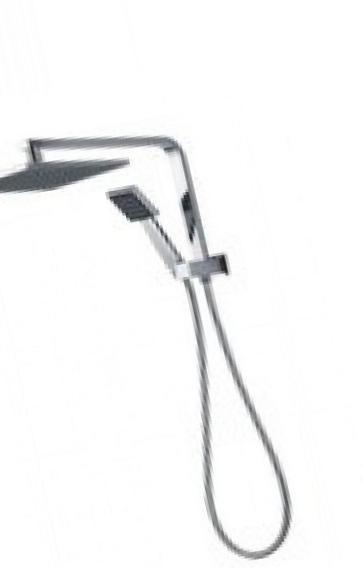Ducha: (0, 109, 293, 567)
